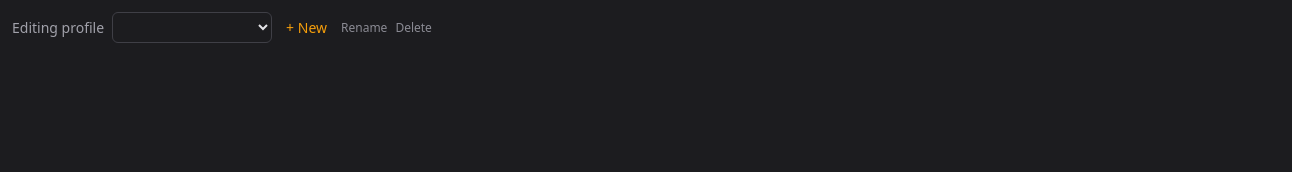
ProfileSelector create › surfaces a create failure
Click the button "+ New" at (307, 28), box [280,18,333,38]
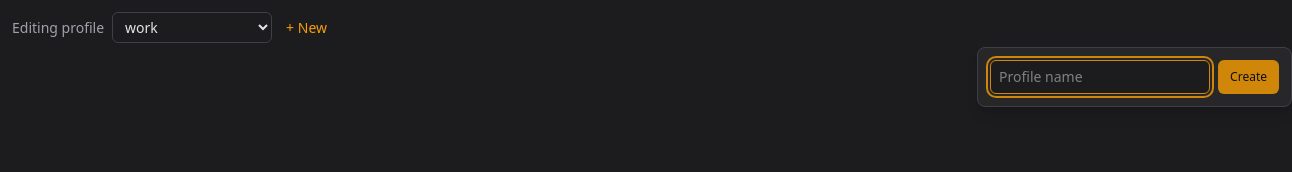
Type "duplicate" into the field with placeholder "Profile name" at (1100, 77), box [990,60,1210,94]
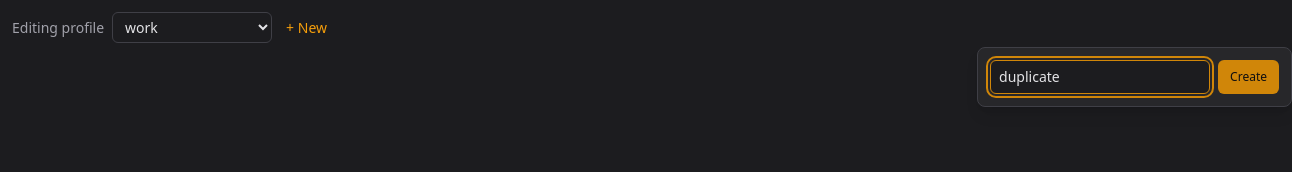
Press Enter in the field with placeholder "Profile name", box [990,60,1210,94]
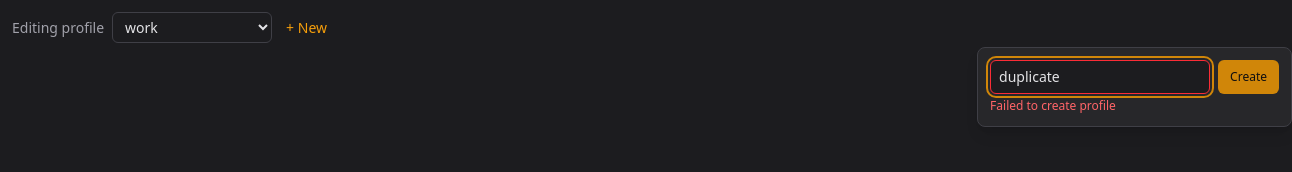
expect the text "Failed to create profile" is shown: met, box [990,97,1116,114]
